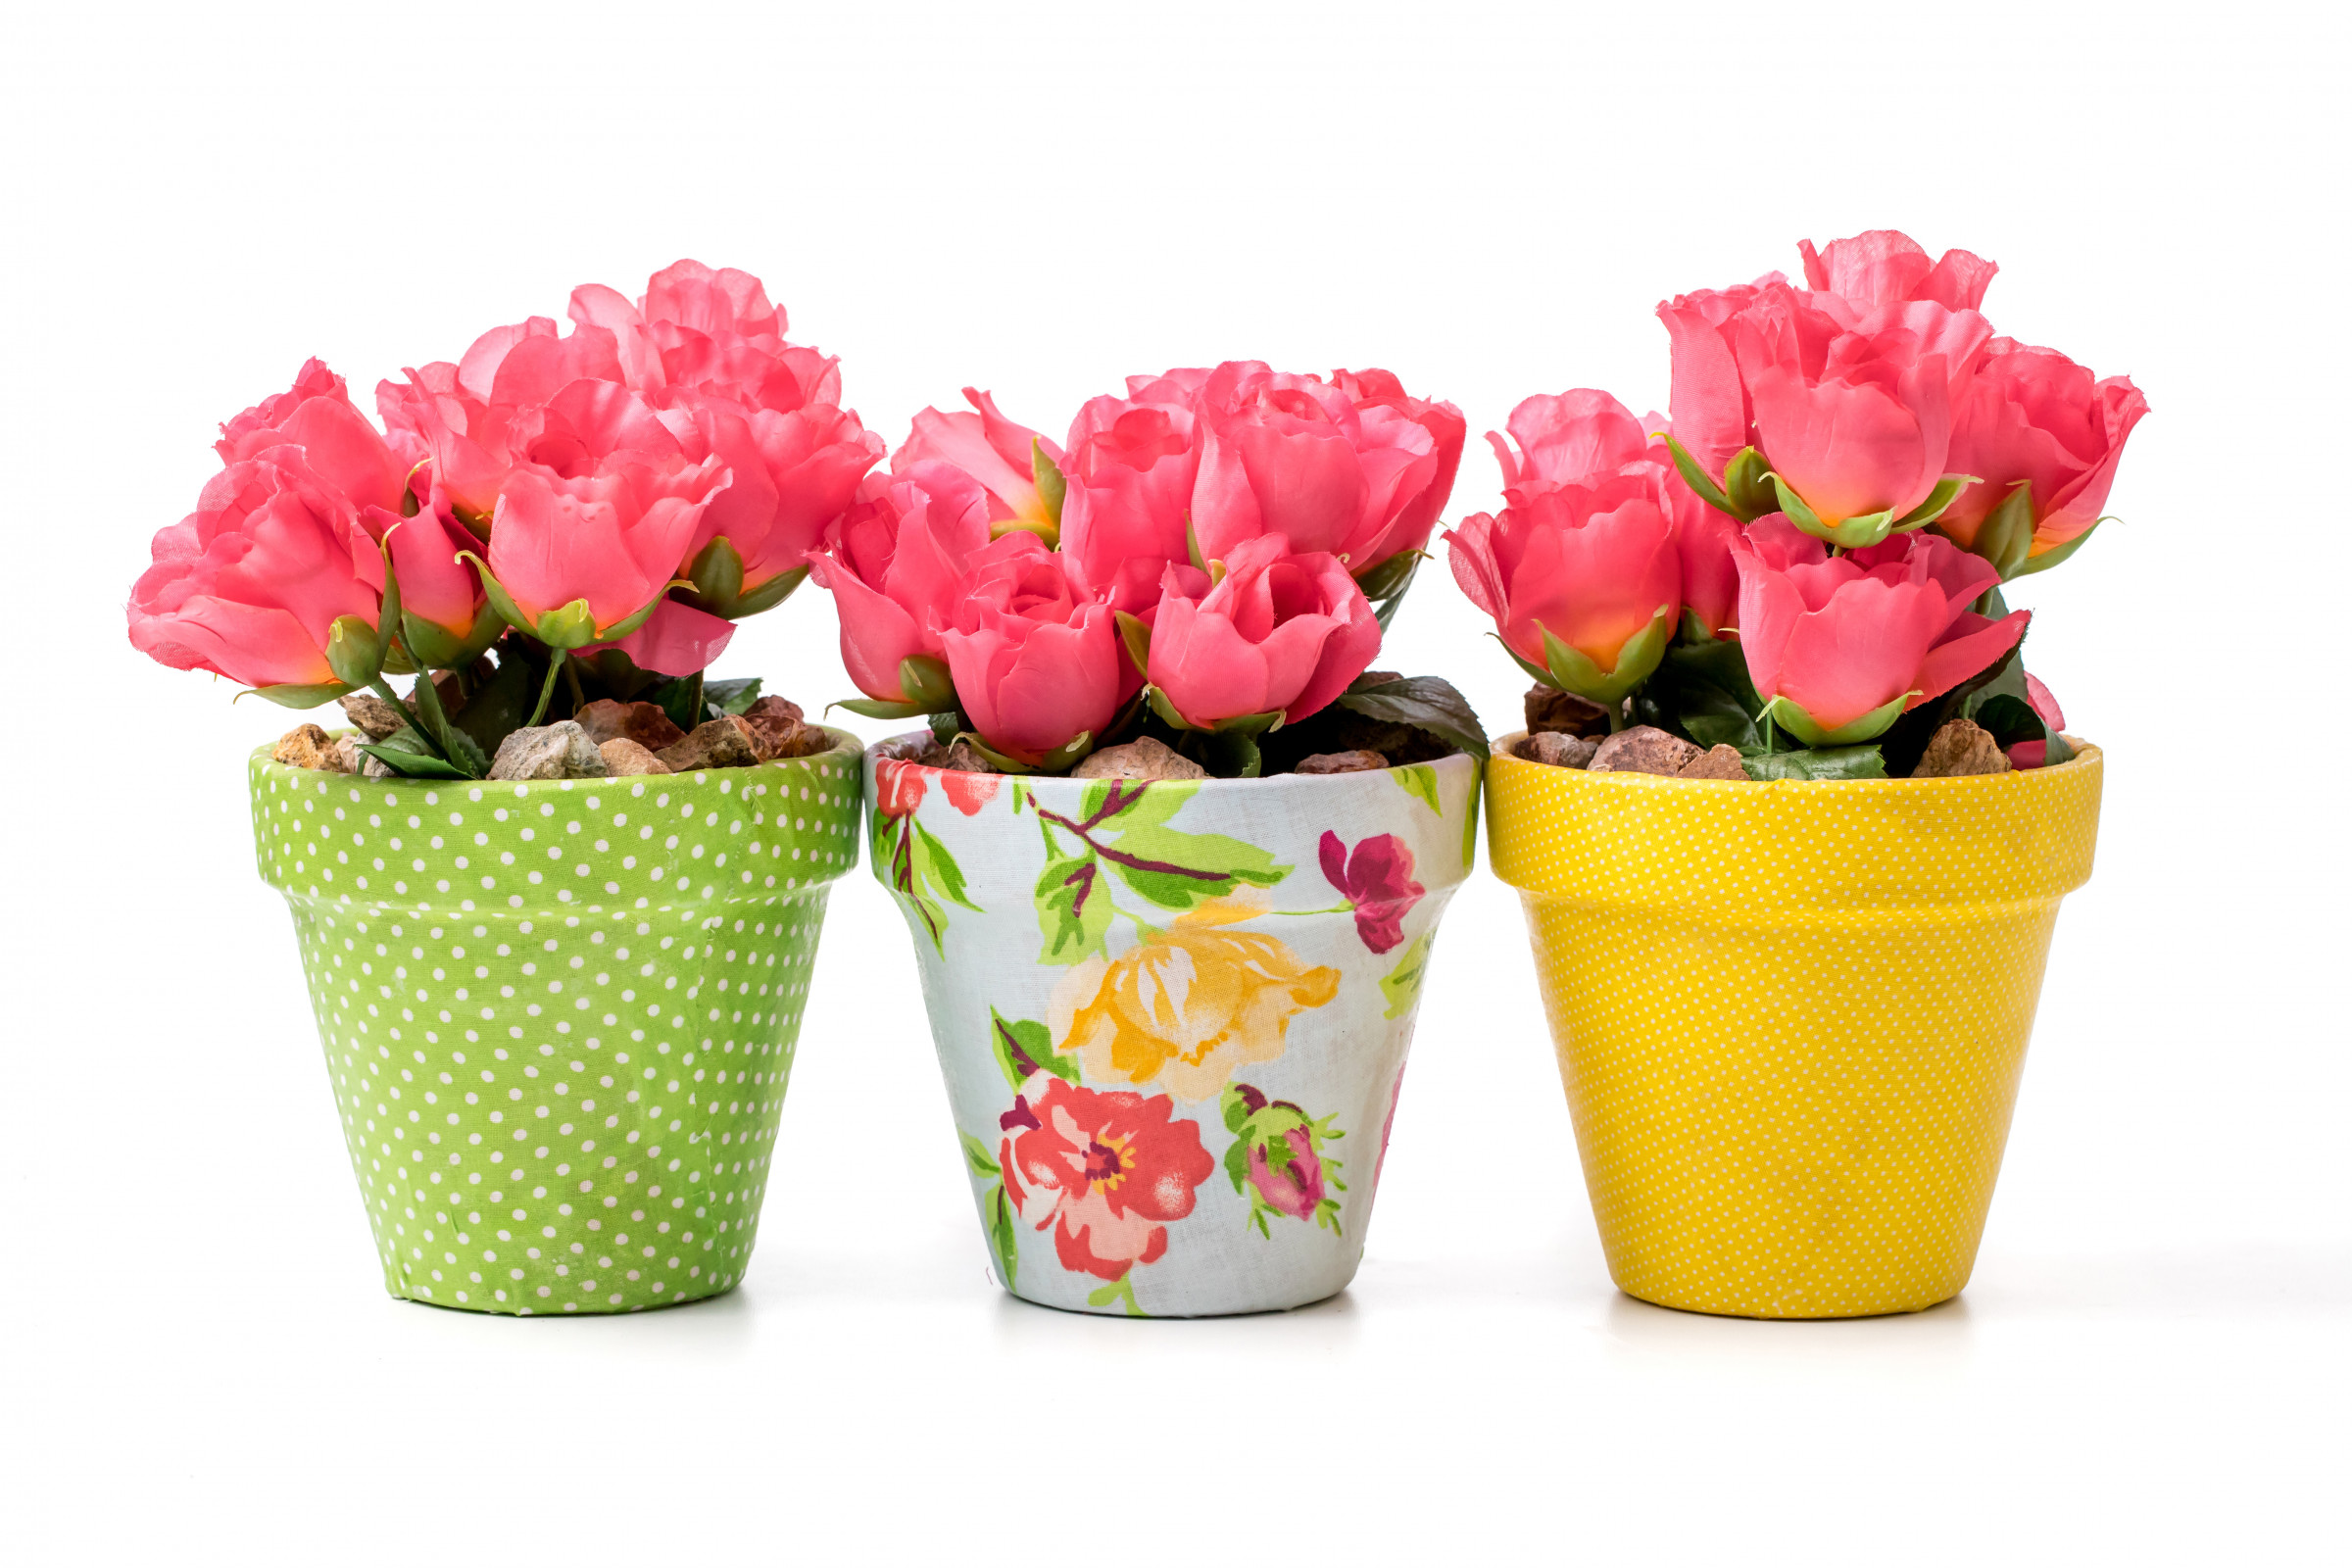plant: (128, 257, 865, 1311), (1449, 228, 2151, 1319), (837, 357, 1487, 1316)
